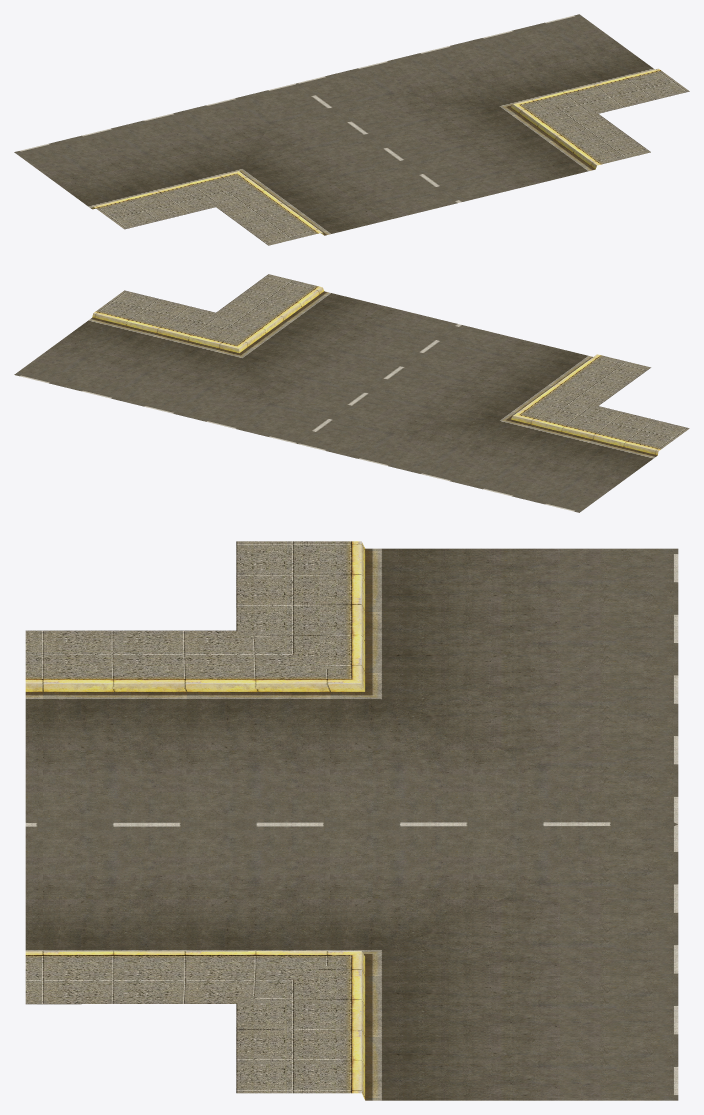
Rendered from Road3_T_D.fbx.
3 views of the same model, one above another, from view 1: azimuth 30°, elevation 25°; view 2: azimuth 150°, elevation 25°; view 3: azimuth 270°, elevation 25° (orthographic). The views are drawn at different scales.
Visible parts, largest first — view 1: Road_T_D; view 2: Road_T_D; view 3: Road_T_D.
Boxes of the visible parts, x1=… form: Road_T_D: x1=14, y1=14, x2=689, y2=245; Road_T_D: x1=14, y1=274, x2=689, y2=512; Road_T_D: x1=25, y1=541, x2=678, y2=1100.
Bounding box in the file's own units: 3331 × 20.38 × 1666.
